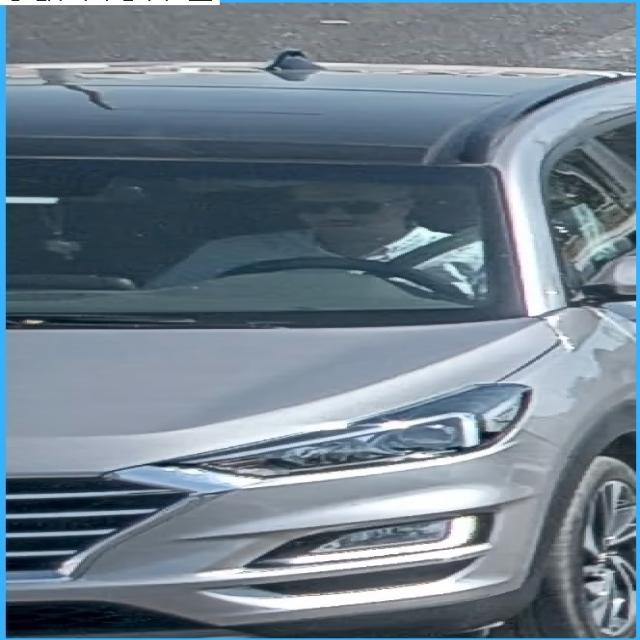windshield: (19, 157, 505, 316)
